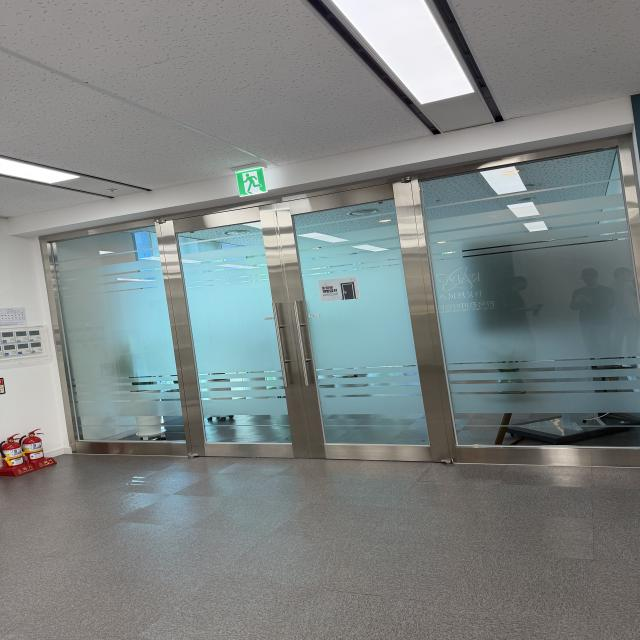front_door: (39, 125, 640, 472)
